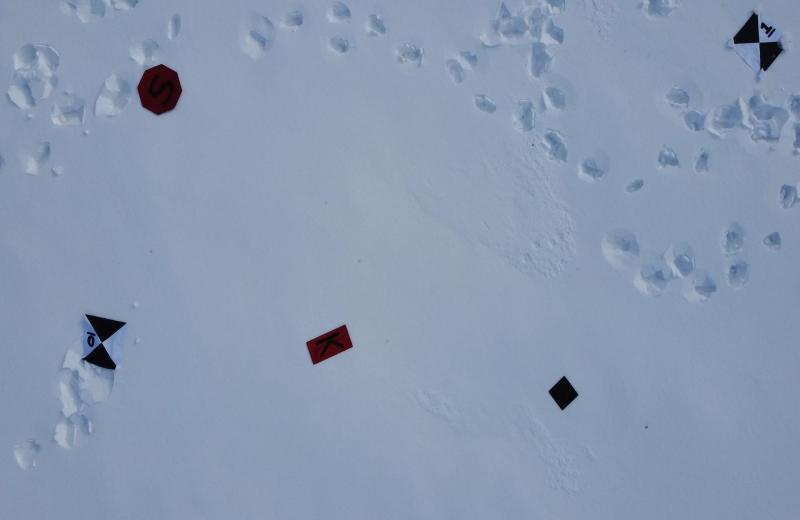Octagon: (135, 63, 184, 118)
Rectangle: (307, 324, 354, 366)
Square: (548, 376, 579, 412)
